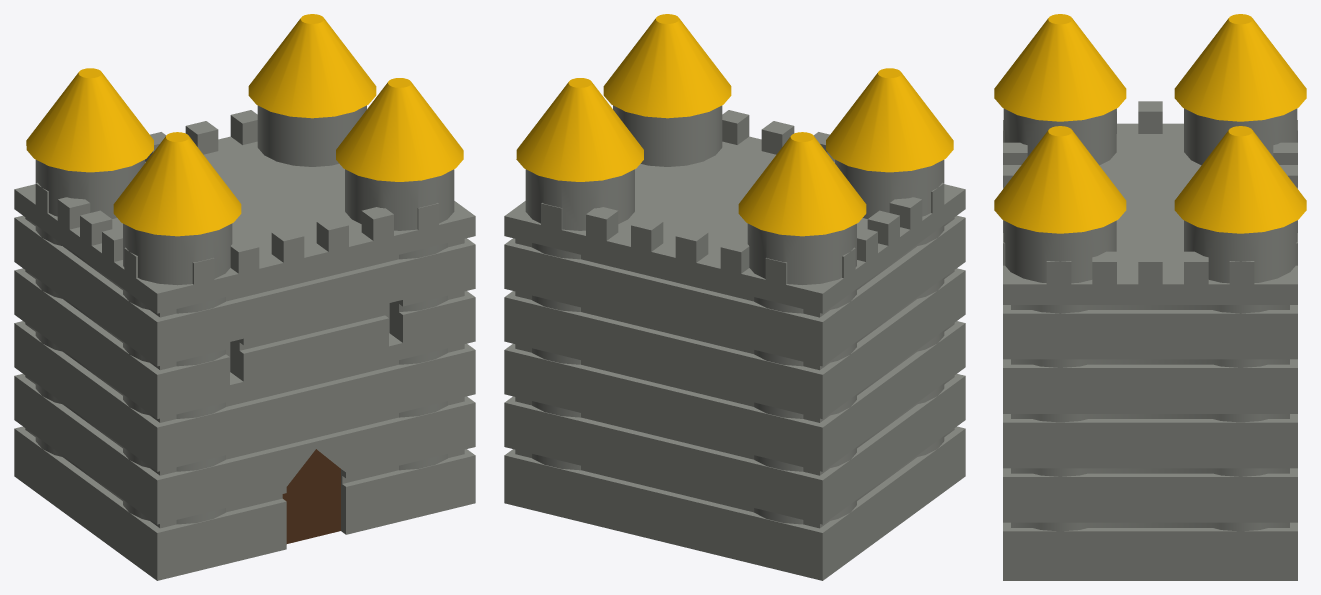
Rendered from burg_gelb.glb.
3 views of the same model, side by side, from view 1: azimuth 30°, elevation 25°; view 2: azimuth 150°, elevation 25°; view 3: azimuth 270°, elevation 25° (orthographic). The views are drawn at different scales.
Visible parts, largest first — view 1: burg_gelb; view 2: burg_gelb; view 3: burg_gelb.
Part boxes in pixels (box(x1,y1,x2,y2)): burg_gelb: box(14, 14, 475, 580); burg_gelb: box(504, 14, 965, 580); burg_gelb: box(994, 14, 1306, 580).
Bounding box in the file's own units: 14.6 × 17.18 × 11.43.
